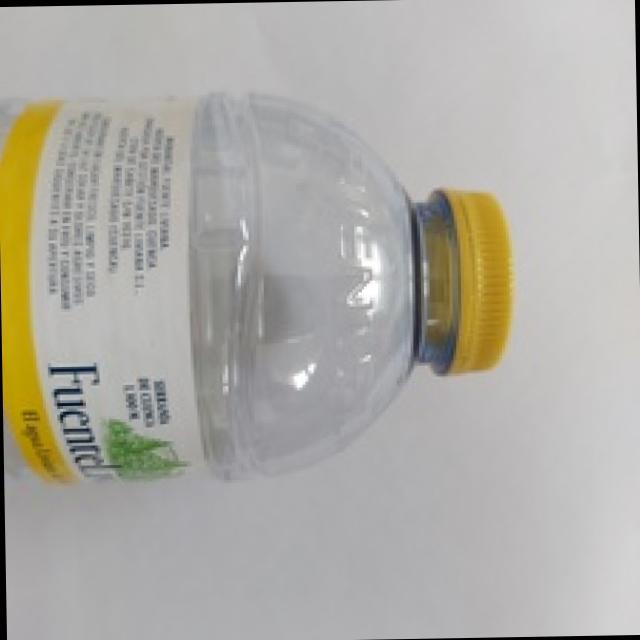good: (0, 0, 533, 530)
